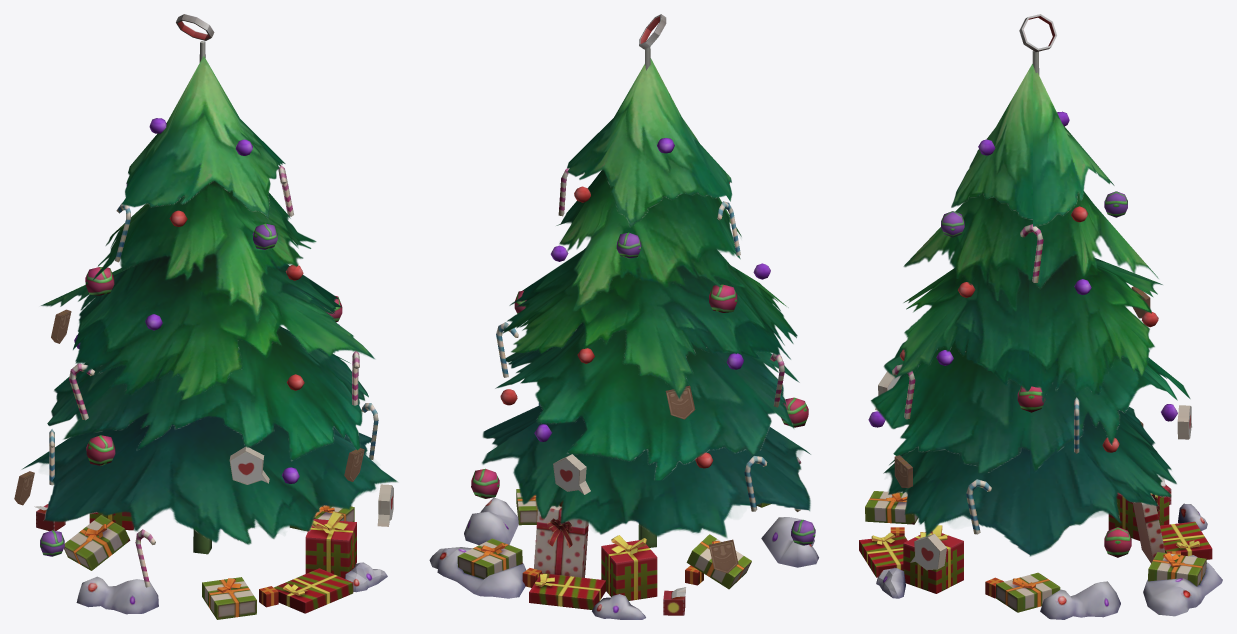
The model's file is furn_sd2016_tree_001.gltf.
3 views of the same model, side by side, from view 1: azimuth 30°, elevation 25°; view 2: azimuth 150°, elevation 25°; view 3: azimuth 270°, elevation 25° (orthographic). The views are drawn at different scales.
Parts seen in each view (by area): view 1: sd2016_tree_001; view 2: sd2016_tree_001; view 3: sd2016_tree_001.
Boxes of the visible parts, x1=… form: sd2016_tree_001: x1=14, y1=14, x2=397, y2=619; sd2016_tree_001: x1=429, y1=14, x2=818, y2=619; sd2016_tree_001: x1=859, y1=14, x2=1222, y2=619.
Size of the model in its own units: 1.09 by 1.65 by 1.05.
2 materials, 2 textured.
